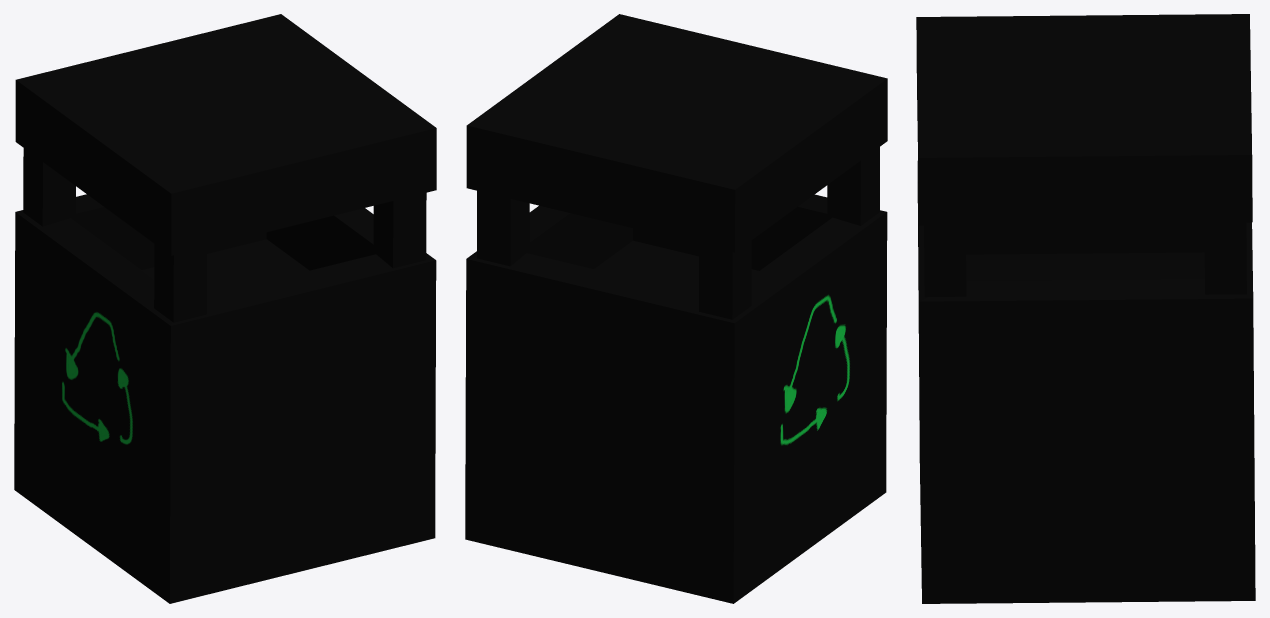
File: Bin.fbx
3 renders of one model, left to right at view 1: azimuth 30°, elevation 25°; view 2: azimuth 150°, elevation 25°; view 3: azimuth 270°, elevation 25°, orthographic. The views are drawn at different scales.
Visible parts, largest first — view 1: node_id5; view 2: node_id5; view 3: node_id5.
Part boxes in pixels (x1,y1,x2,y2): node_id5: [14, 14, 436, 603]; node_id5: [465, 14, 887, 603]; node_id5: [916, 14, 1255, 603].
Bounding box in the file's own units: 0.3477 × 0.512 × 0.3512.
1 material, 1 textured.
